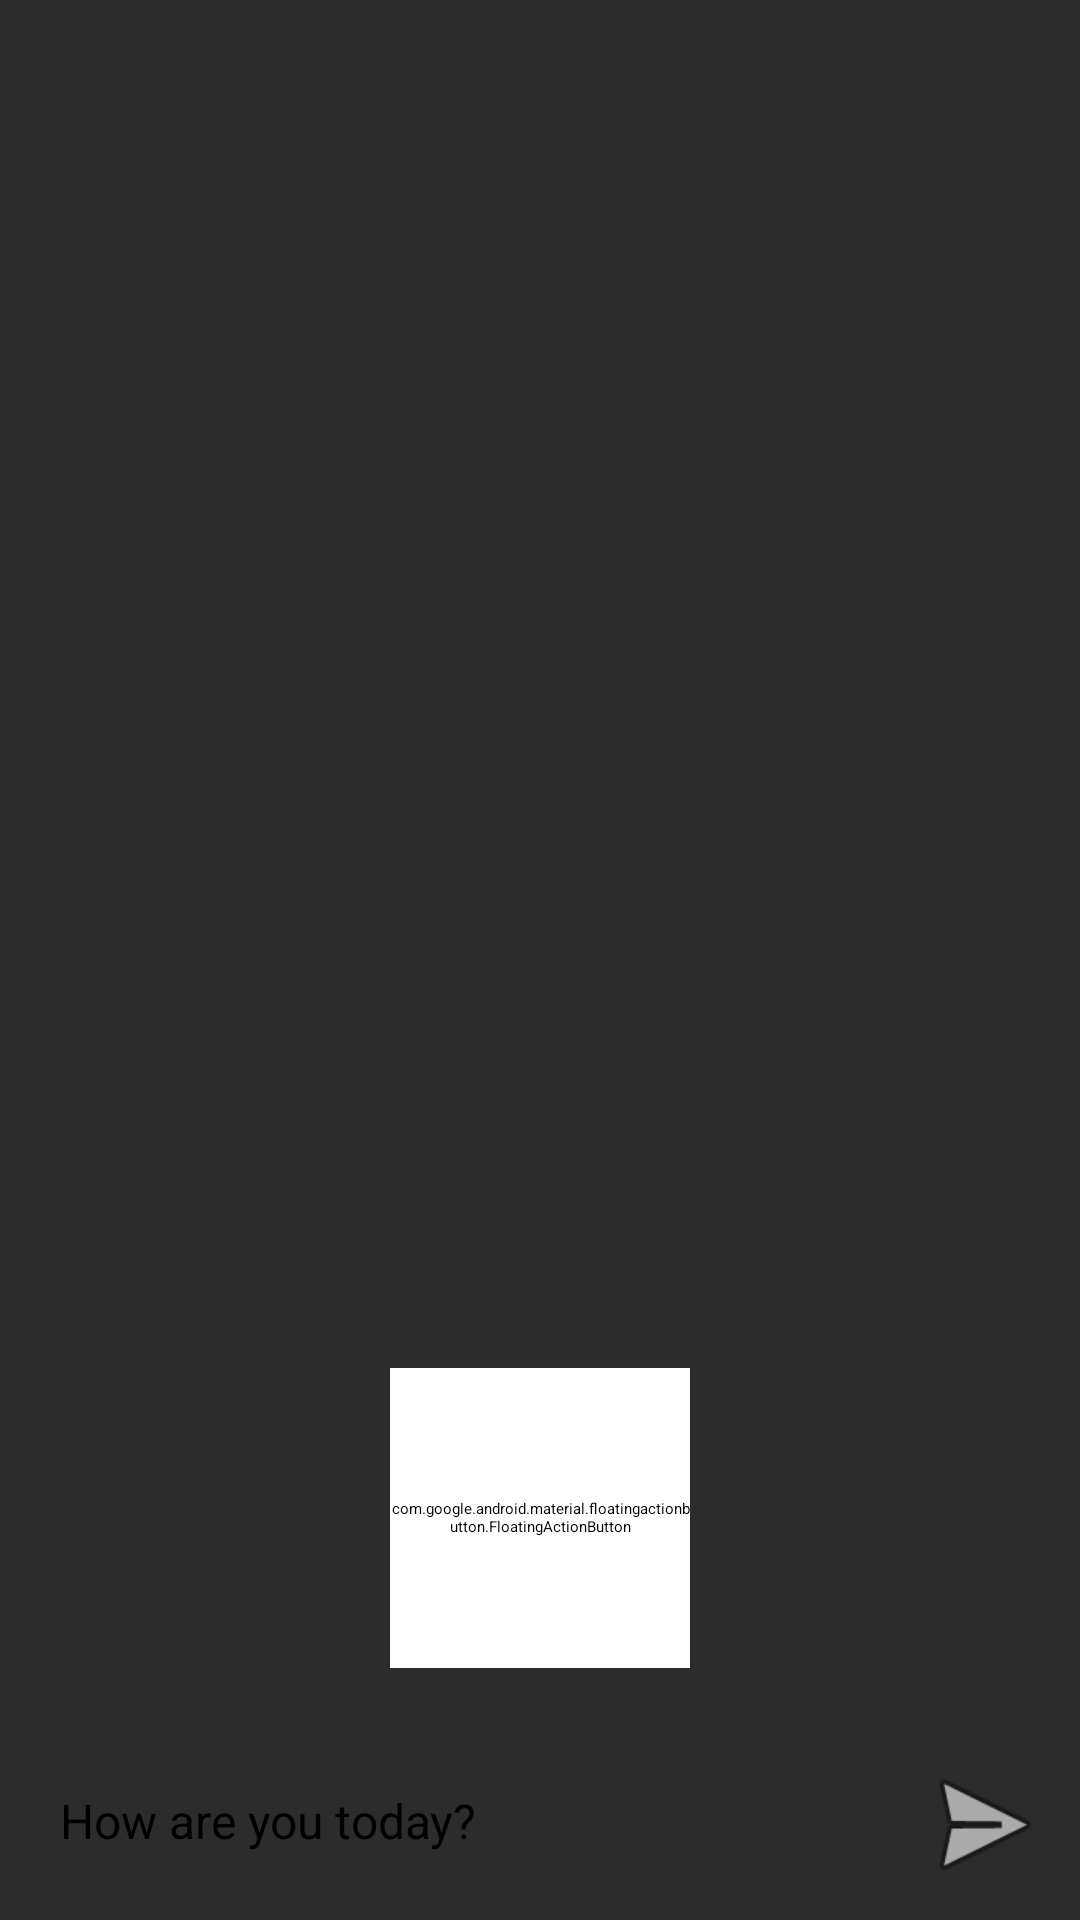

Where icons sit on this 1080w x 1920h app screen, as (x1, y1, x2, y2):
Send: (944, 1784, 1027, 1866)
